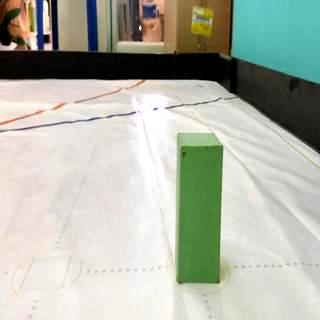greenbox: (176, 130, 226, 283)
